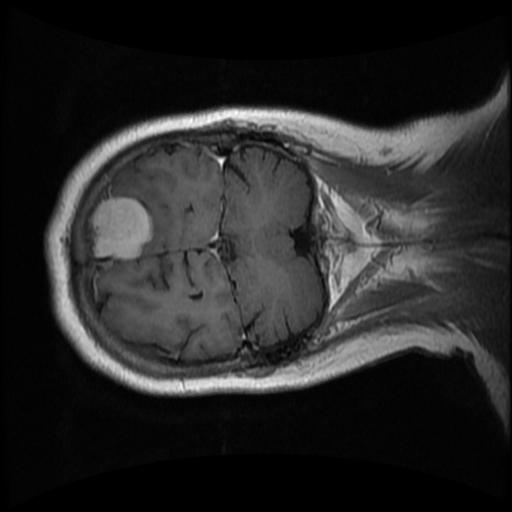meningioma: (90, 197, 153, 260)
